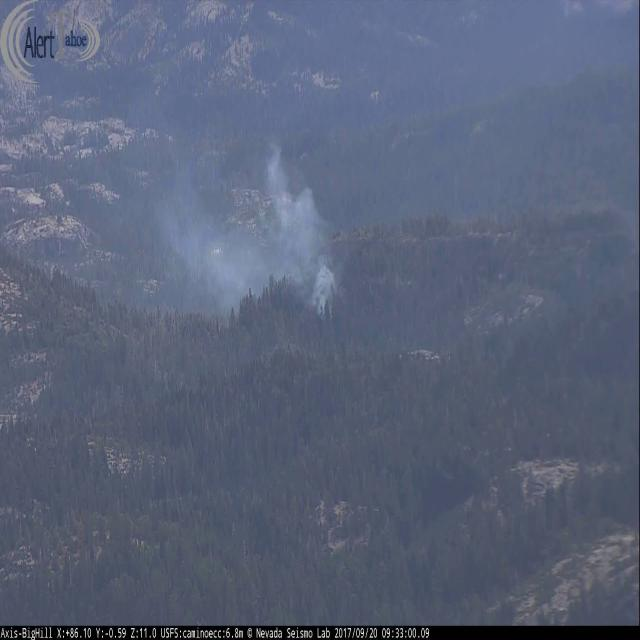smoke: (144, 104, 338, 335)
